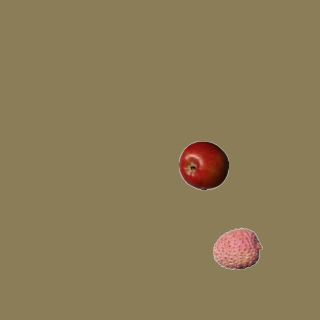Apple Braeburn: (178, 140, 228, 190)
Lychee: (212, 223, 262, 273)
